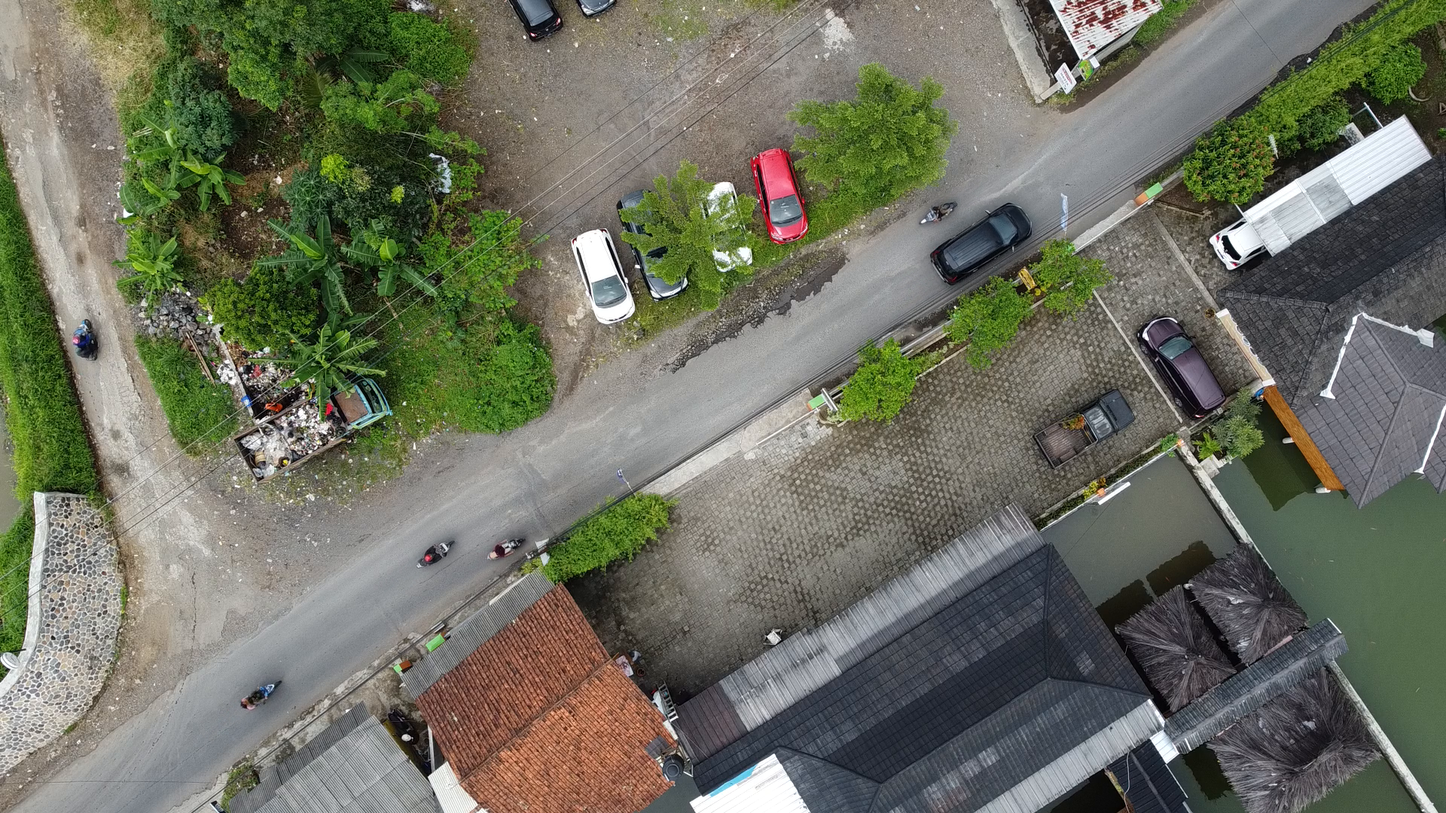mobil: (1137, 310, 1234, 419), (609, 187, 703, 297), (923, 193, 1033, 273), (557, 222, 644, 321), (1026, 388, 1138, 464), (691, 152, 758, 274), (749, 132, 810, 230), (1192, 214, 1264, 272), (504, 1, 573, 44)
